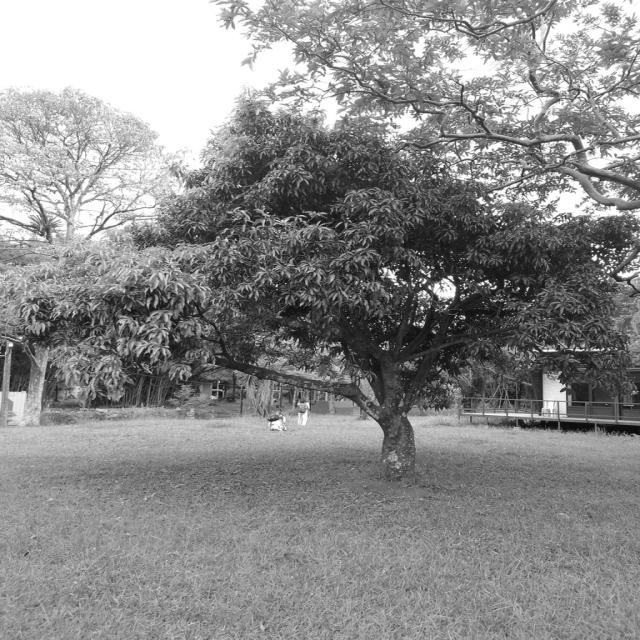Mango-Tree: (138, 134, 625, 479)
